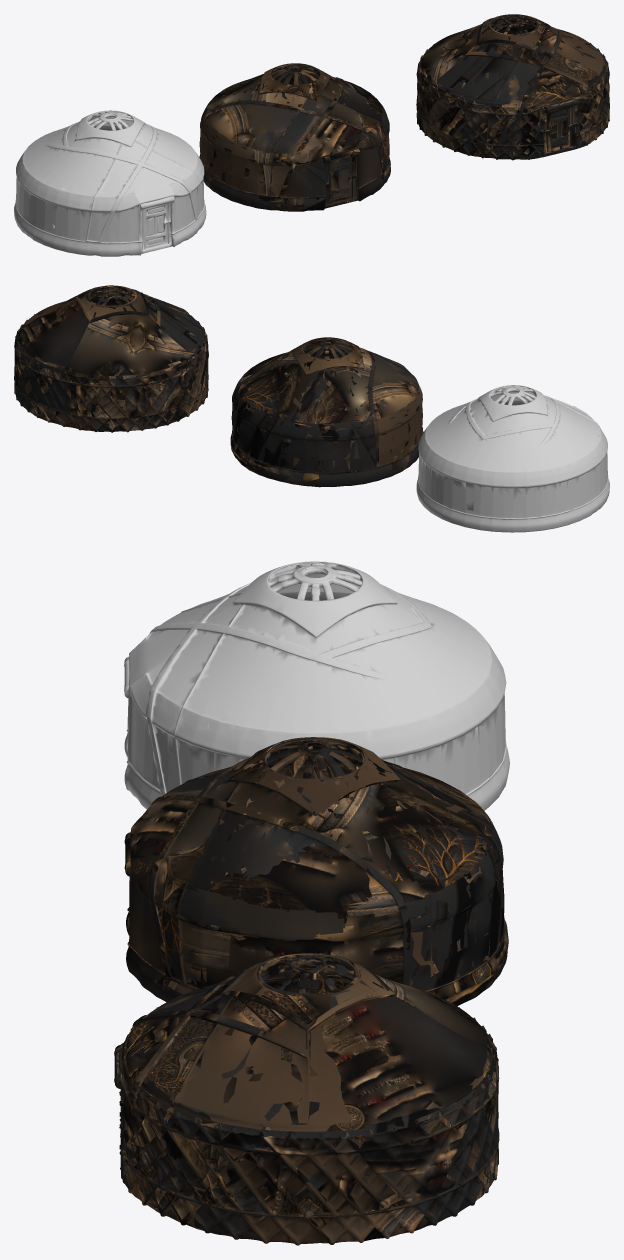
File: Huts.fbx
The picture shows the model from 3 angles, top to bottom: view 1: azimuth 30°, elevation 25°; view 2: azimuth 150°, elevation 25°; view 3: azimuth 270°, elevation 25°; orthographic projection. The views are drawn at different scales.
Visible parts, largest first — view 1: Hut2, Hut3, Hut1; view 2: Hut2, Hut3, Hut1; view 3: Hut2, Hut3, Hut1.
Boxes of the visible parts, bbox=[...] form: Hut2: bbox=[416, 14, 609, 160]; Hut3: bbox=[199, 63, 390, 211]; Hut1: bbox=[14, 110, 206, 256]; Hut2: bbox=[14, 285, 208, 432]; Hut3: bbox=[230, 337, 423, 487]; Hut1: bbox=[416, 385, 609, 532]; Hut2: bbox=[114, 953, 499, 1245]; Hut3: bbox=[124, 737, 508, 1006]; Hut1: bbox=[124, 561, 509, 810].
Bounding box in the file's own units: 2281 × 396 × 688.
